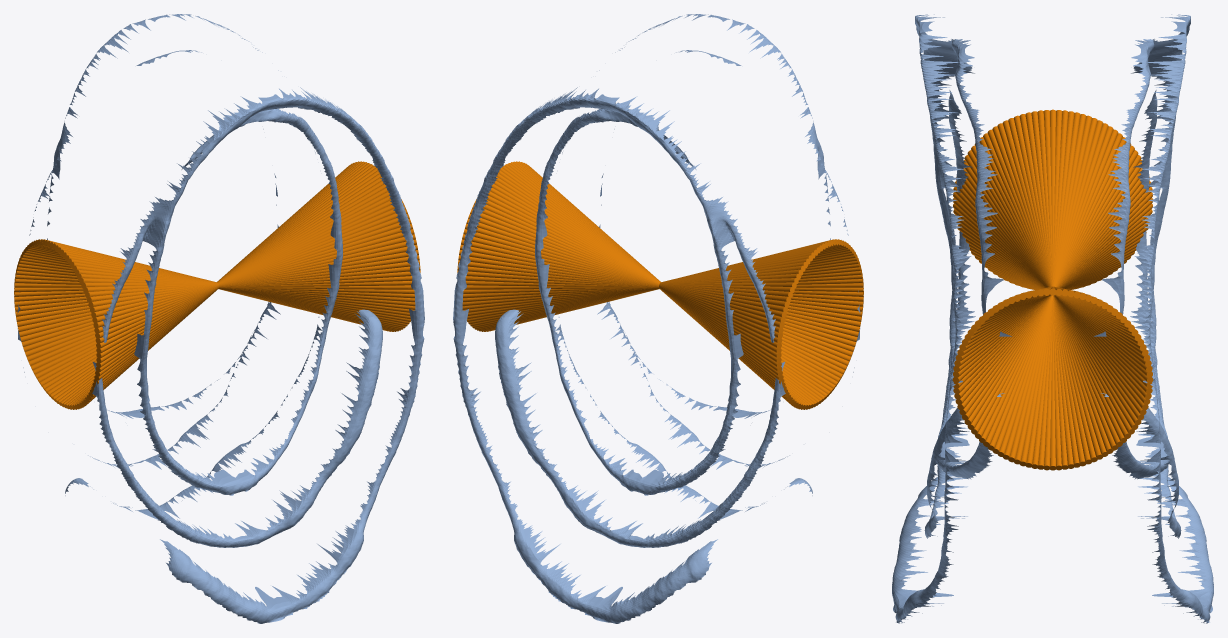
Rendered from A20024968_5995-37-531-2348_DigitalTwin.glb.
3 renders of one model, left to right at view 1: azimuth 30°, elevation 25°; view 2: azimuth 150°, elevation 25°; view 3: azimuth 270°, elevation 25°, orthographic. The views are drawn at different scales.
Parts seen in each view (by area): view 1: world; view 2: world; view 3: world.
Boxes of the visible parts, <box> form: world: <box>14,14,424,623</box>; world: <box>453,14,863,623</box>; world: <box>892,14,1213,623</box>.
Size of the model in its own units: 240 by 362 by 180.
